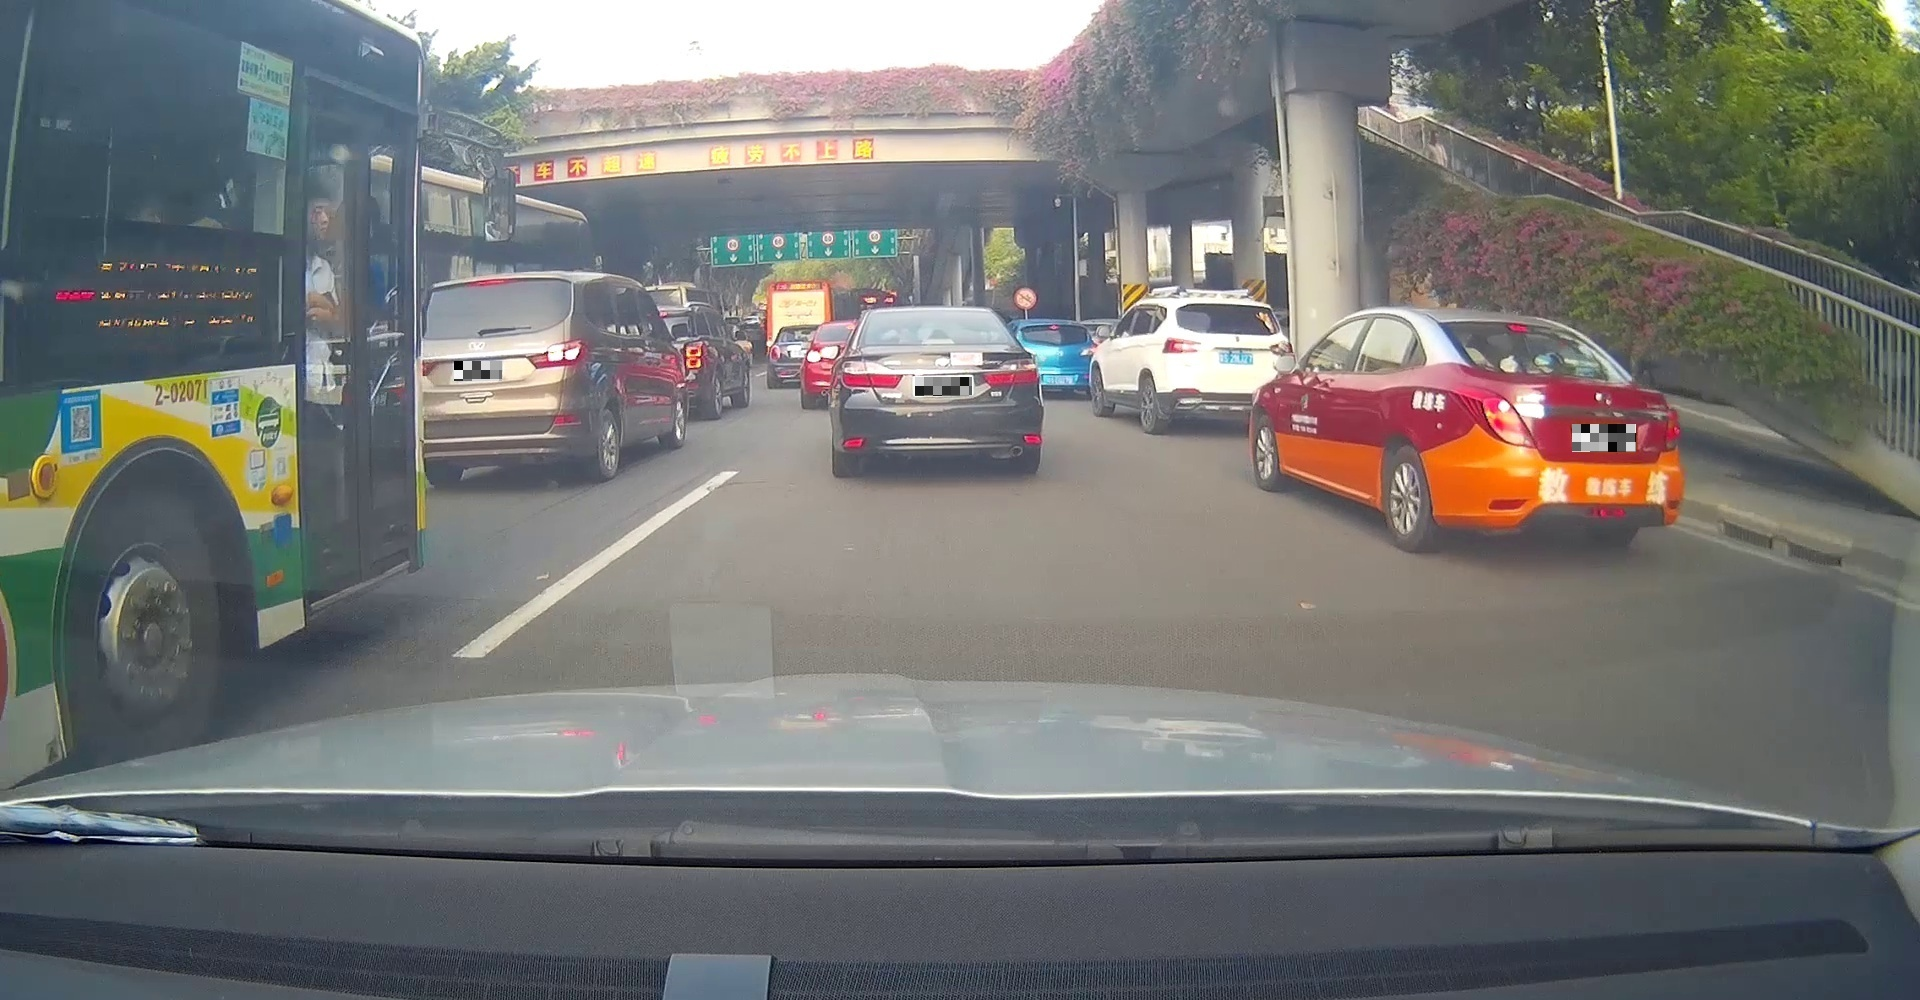L_light: (1448, 385, 1538, 449), (841, 360, 903, 390), (1162, 338, 1203, 353)
R_light: (984, 358, 1037, 385), (1660, 406, 1680, 451), (1269, 341, 1293, 355)
T_light: (921, 338, 954, 346), (1507, 324, 1530, 332), (1220, 303, 1238, 310)
day-brake: (1437, 308, 1683, 553)
day-no: (830, 306, 1044, 477), (1162, 296, 1295, 433)
plate_1: (455, 360, 502, 381)
plate_2: (916, 377, 971, 396)
plate_3: (1572, 424, 1636, 452)
